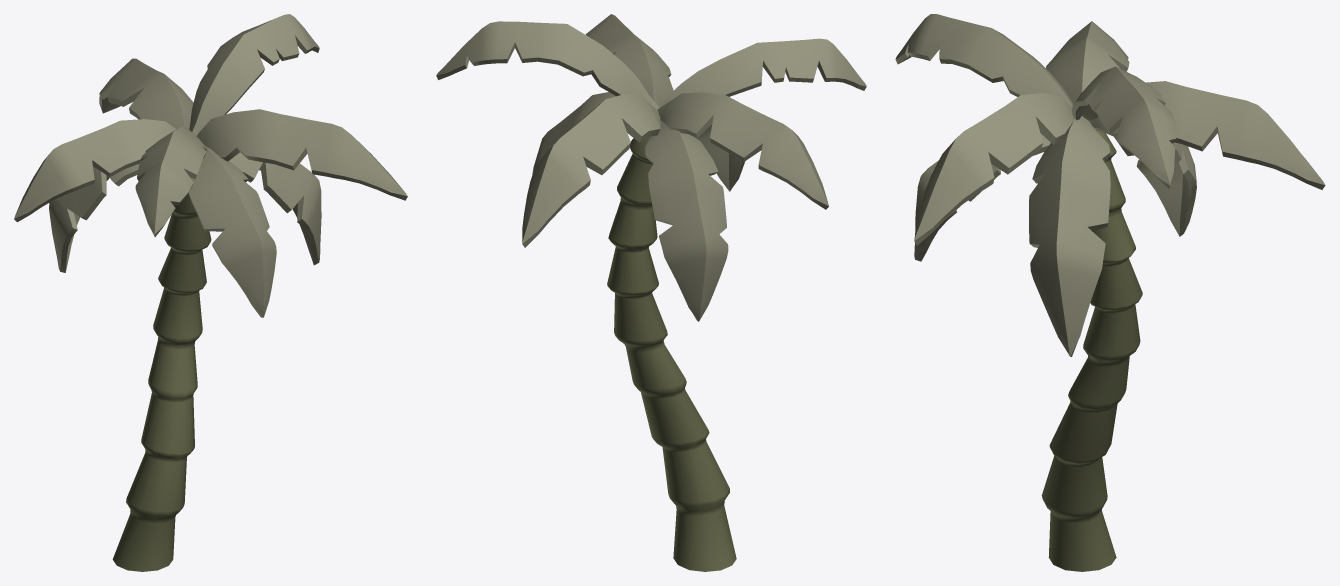
File: quaternius-pirate-environment-palm-tree-1.glb
3 views of the same model, side by side, from view 1: azimuth 30°, elevation 25°; view 2: azimuth 150°, elevation 25°; view 3: azimuth 270°, elevation 25° (orthographic). The views are drawn at different scales.
Parts seen in each view (by area): view 1: Environment_PalmTree_1; view 2: Environment_PalmTree_1; view 3: Environment_PalmTree_1.
Boxes of the visible parts, x1=… form: Environment_PalmTree_1: x1=14, y1=14, x2=407, y2=571; Environment_PalmTree_1: x1=436, y1=14, x2=866, y2=571; Environment_PalmTree_1: x1=895, y1=14, x2=1325, y2=571.
Bounding box in the file's own units: 2.61 × 3.59 × 2.52.
1 material, 1 textured.
